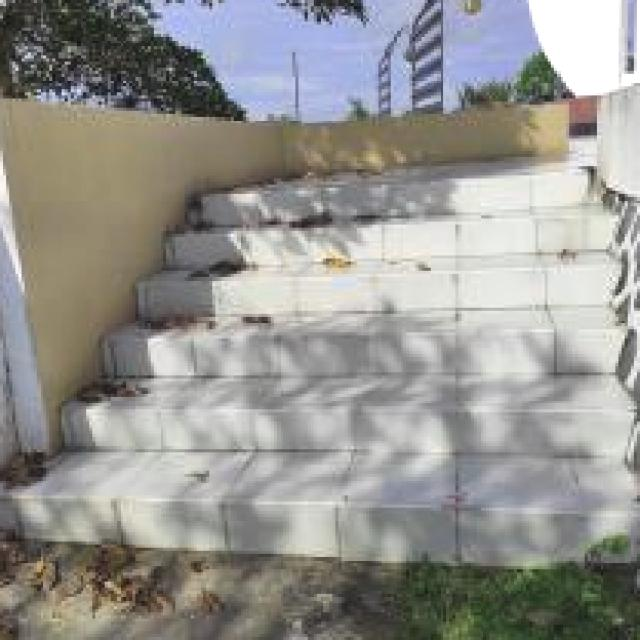upstair: (13, 158, 640, 592)
